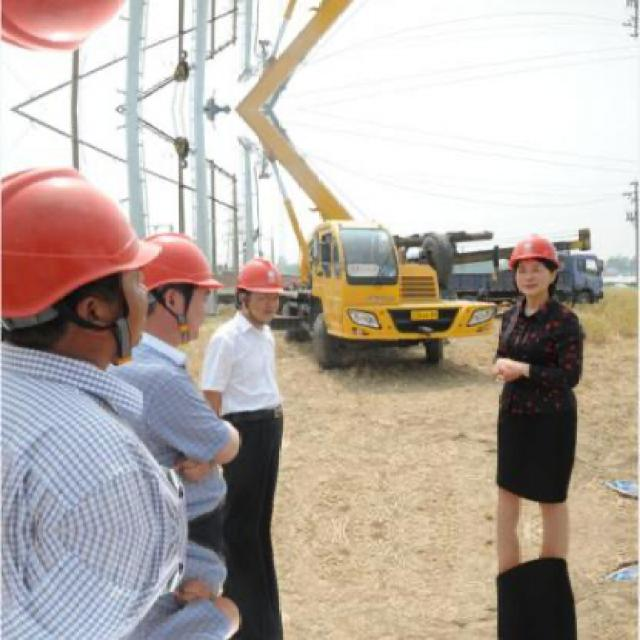helmet: (3, 145, 165, 362), (3, 0, 166, 76), (128, 224, 215, 342), (506, 231, 566, 301), (234, 253, 286, 328)
